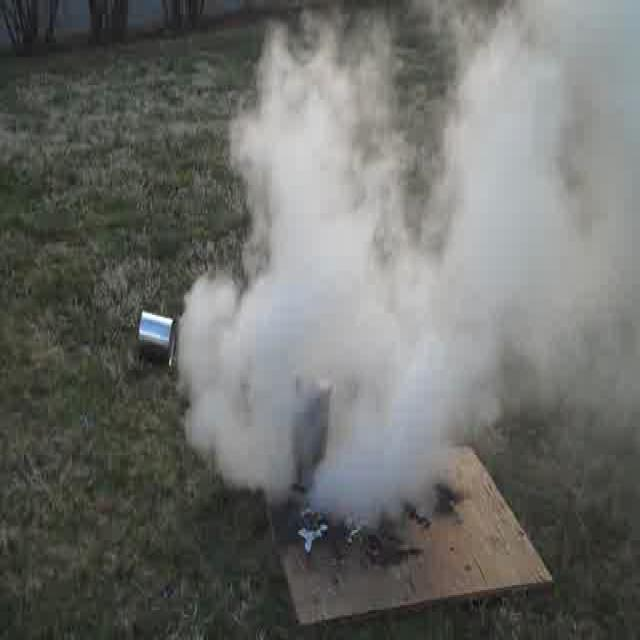Smoke: (180, 6, 638, 488)
